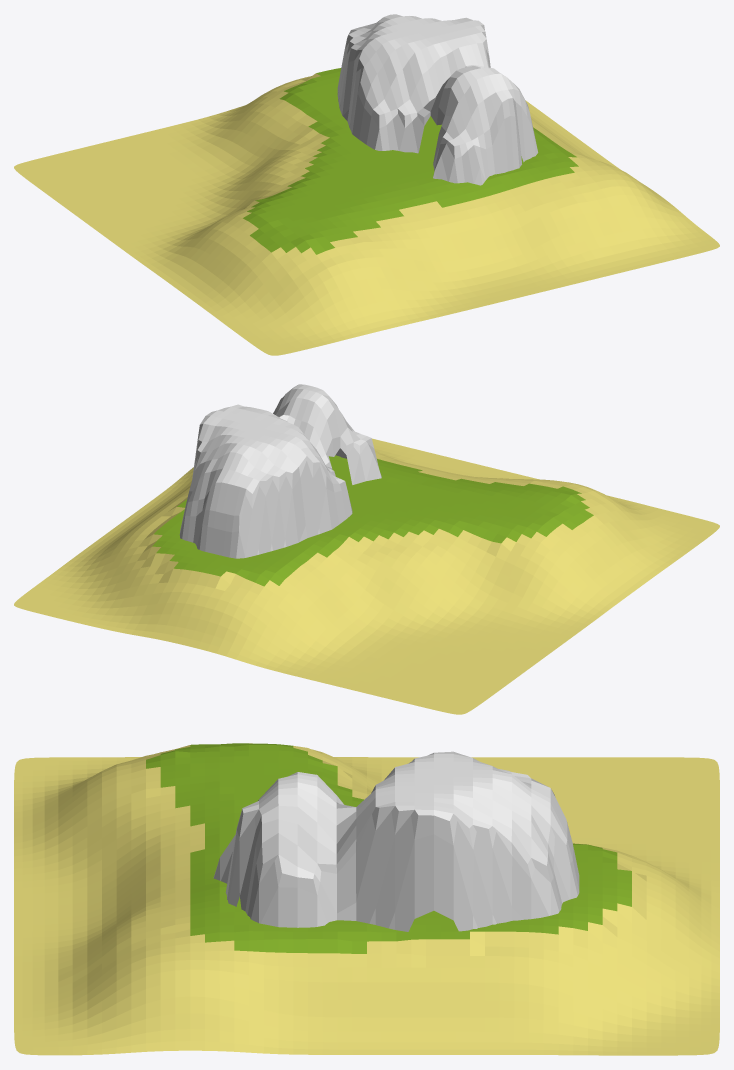
The model's file is island2 1.fbx.
3 renders of one model, top to bottom at view 1: azimuth 30°, elevation 25°; view 2: azimuth 150°, elevation 25°; view 3: azimuth 270°, elevation 25°, orthographic. The views are drawn at different scales.
Visible parts, largest first — view 1: Cube, Plane.001; view 2: Cube, Plane.001; view 3: Cube, Plane.001.
Boxes of the visible parts, left/top/right/bottom form: Cube: left=14, top=68, right=719, bottom=355; Plane.001: left=337, top=14, right=538, bottom=185; Cube: left=14, top=438, right=719, bottom=714; Plane.001: left=179, top=384, right=381, bottom=558; Cube: left=14, top=743, right=719, bottom=1055; Plane.001: left=213, top=751, right=579, bottom=931.
Size of what is drawn, in the model's own units: 3393 by 971 by 3393.
